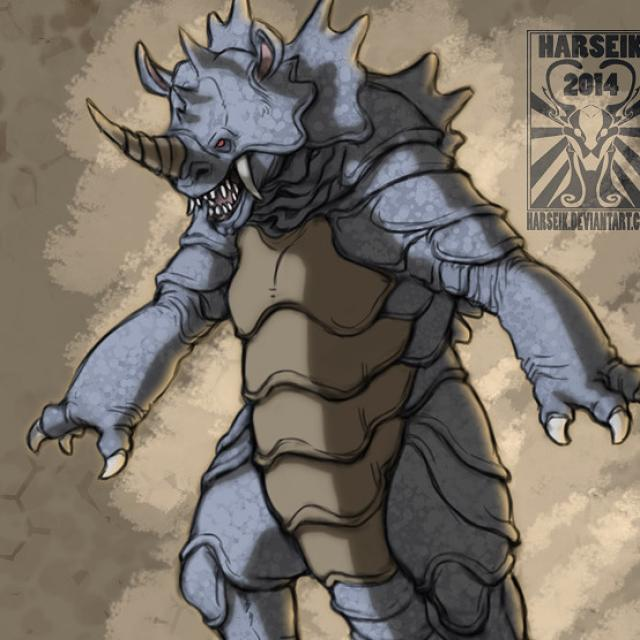Rhydon: (80, 1, 528, 632)
